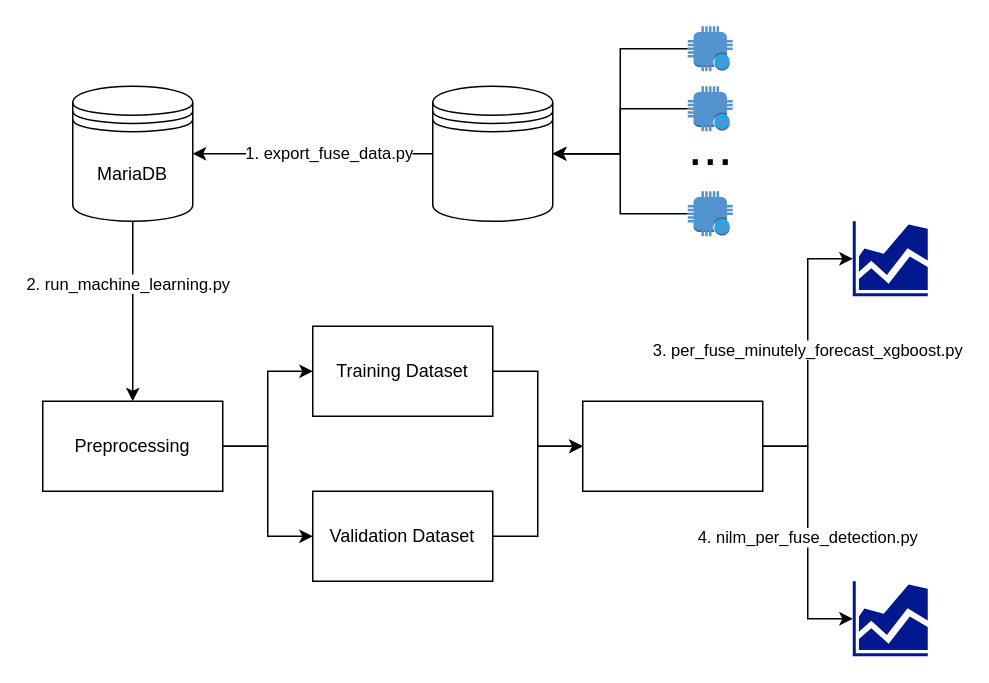
Image size: 989x683. Some labels were removed from this diagram. Each missing label, with the box of its shape:
InfluxDB: (431, 85, 553, 221)
Neural Network: (581, 400, 763, 491)
